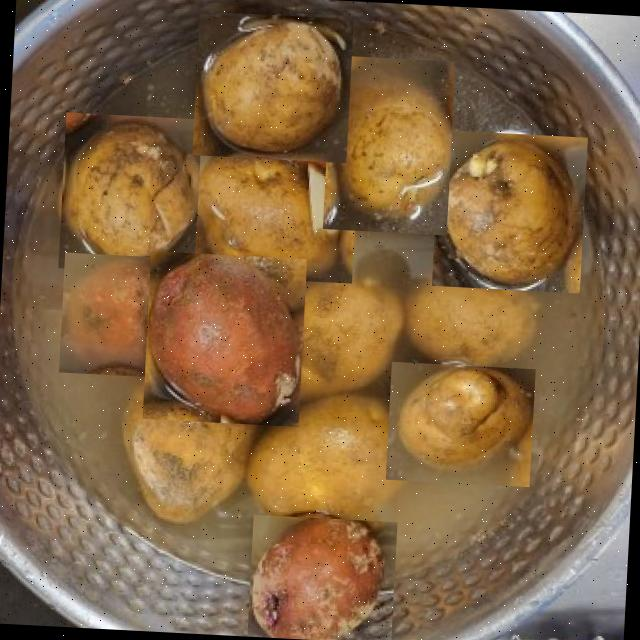Damaged potato: (178, 142, 359, 284), (192, 11, 354, 163), (322, 56, 456, 236), (109, 364, 253, 530), (59, 112, 202, 276), (386, 362, 536, 487), (59, 252, 177, 378)
Defected potato: (142, 251, 308, 427), (247, 515, 397, 640)
Potato: (234, 384, 416, 537), (252, 261, 407, 408), (401, 265, 541, 375)
Sprouted potato: (432, 130, 588, 294)
